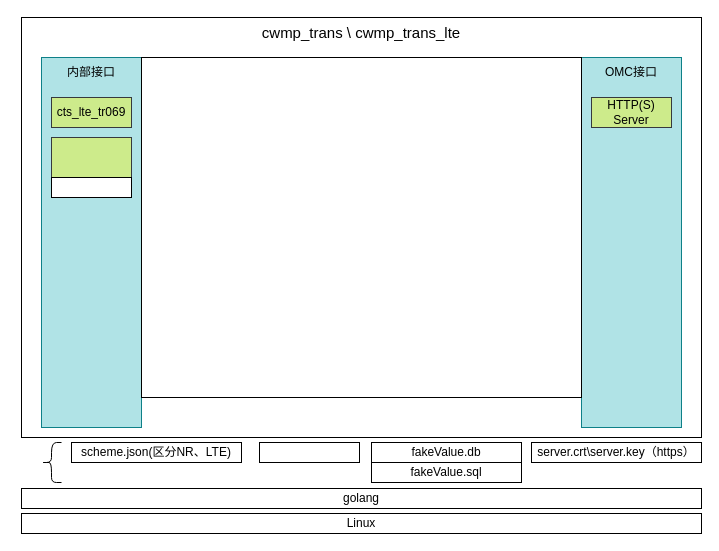
Some shapes in this 719 by 551 pixel diagram are drawn without their labels. Here are the shapes that lost their labels. From the top down, the centre of each, then its label:
pixel 91 157: netconf client
pixel 91 187: "github.com/Juniper/go-netconf/netconf"
pixel 51 462: 配置文件
pixel 309 452: .cwmpinfo
